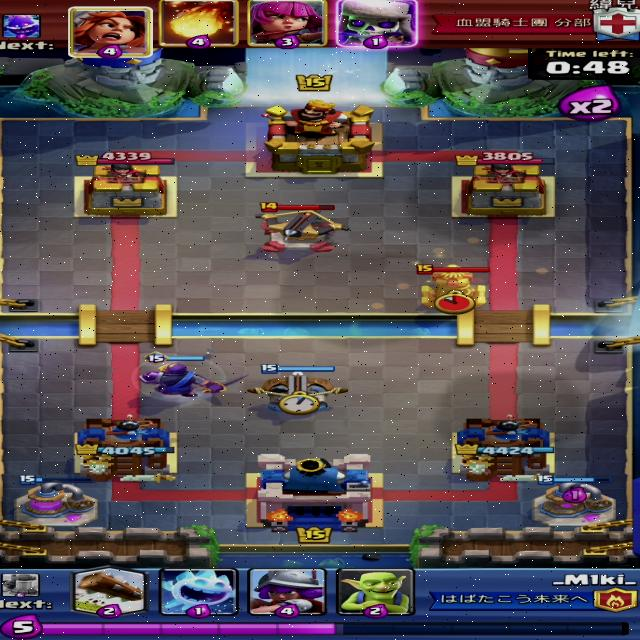Enemy-Tesla: (416, 263, 490, 311)
Enemy-XBow: (251, 202, 350, 253)
Player-ElixirPump: (530, 474, 620, 528), (13, 475, 100, 528)
Player-Knight-Evo: (130, 351, 250, 403)
Player-XBow: (249, 363, 350, 416)
